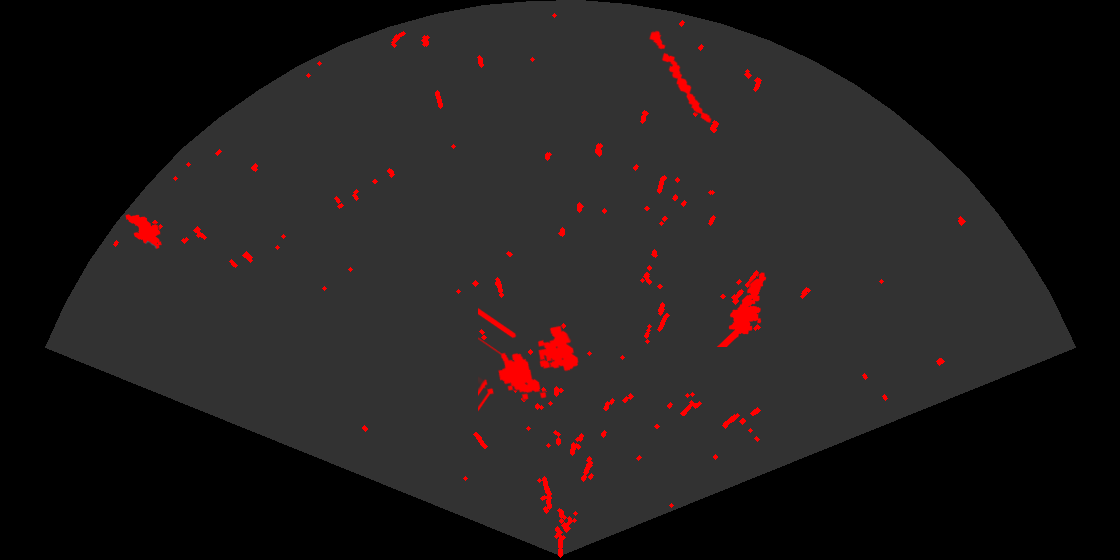AUV: (124, 213, 163, 251)
cage: (478, 306, 580, 413)
chain: (647, 29, 713, 125)
frogman: (715, 271, 768, 347)
